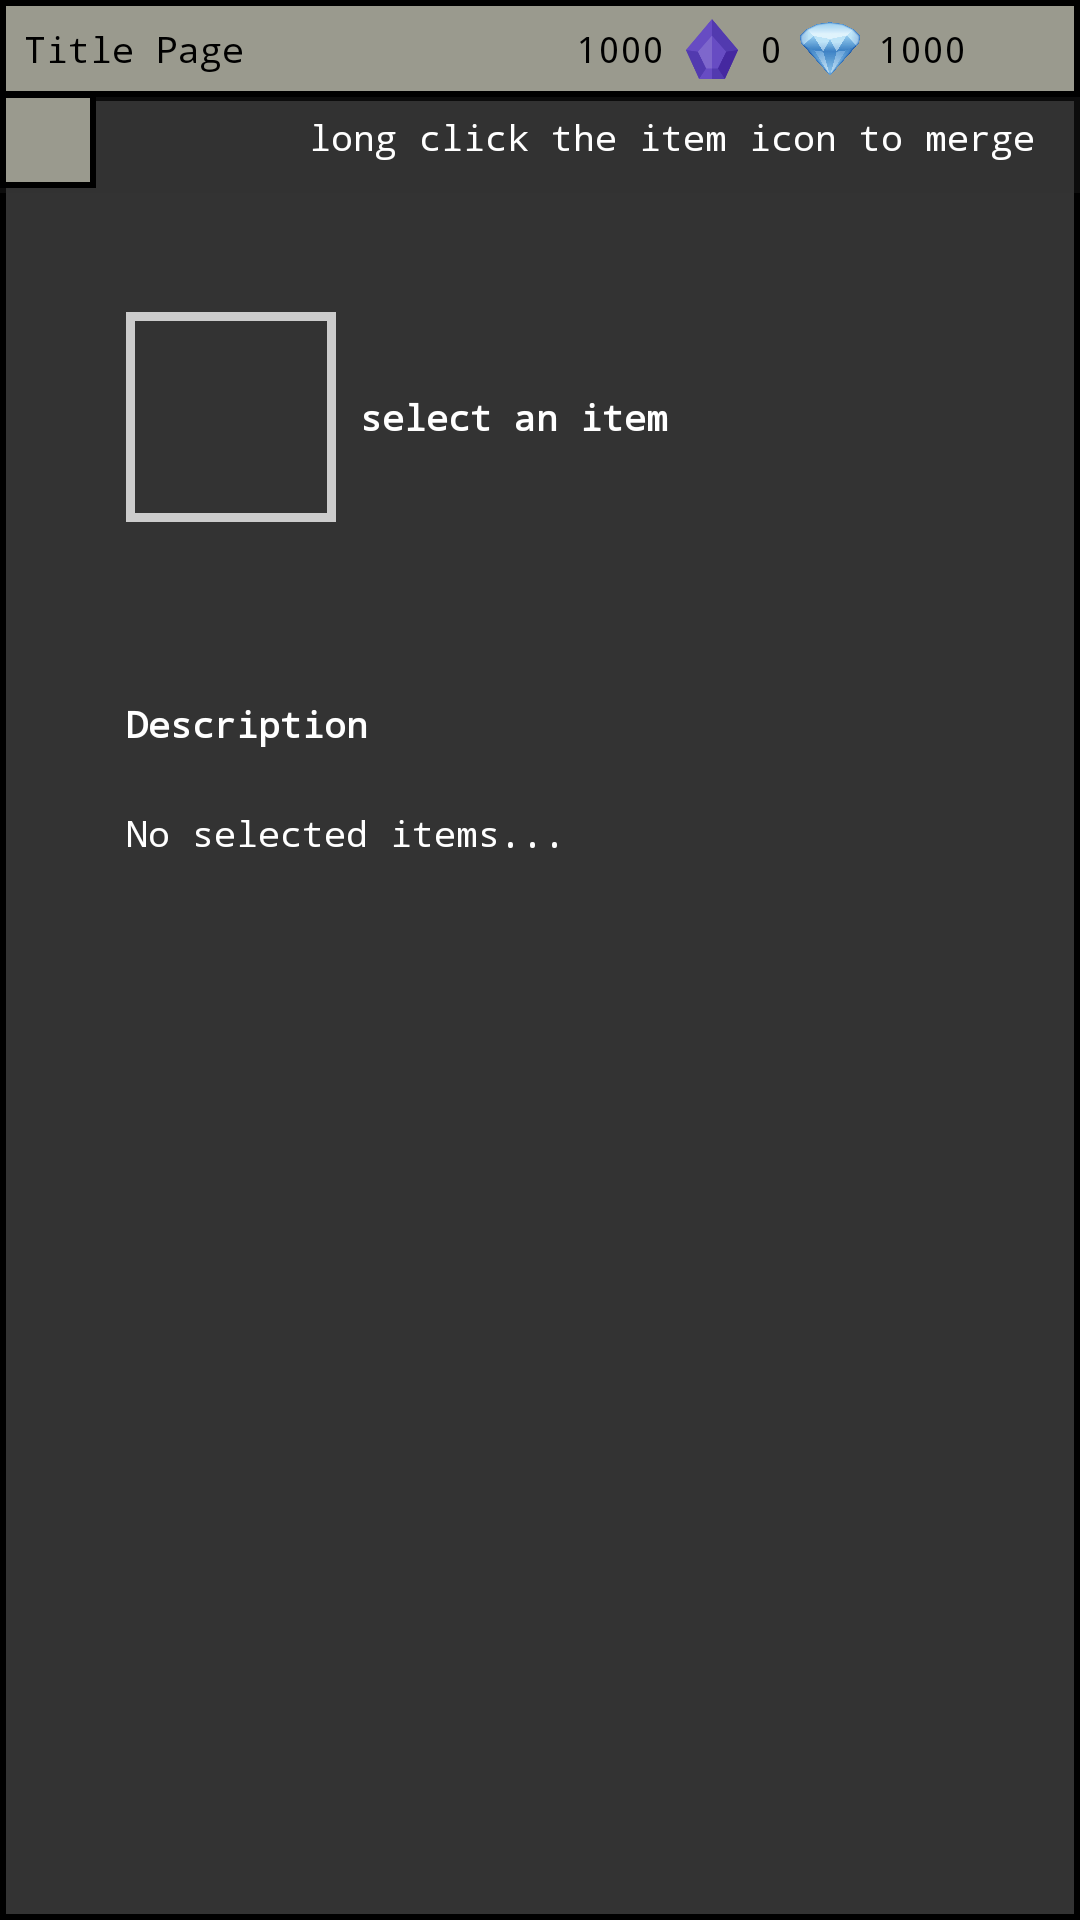

Screen size 1080*1920. Icon name, then its center in pixels as (x=x, y=y):
diamond: (x=830, y=48)
